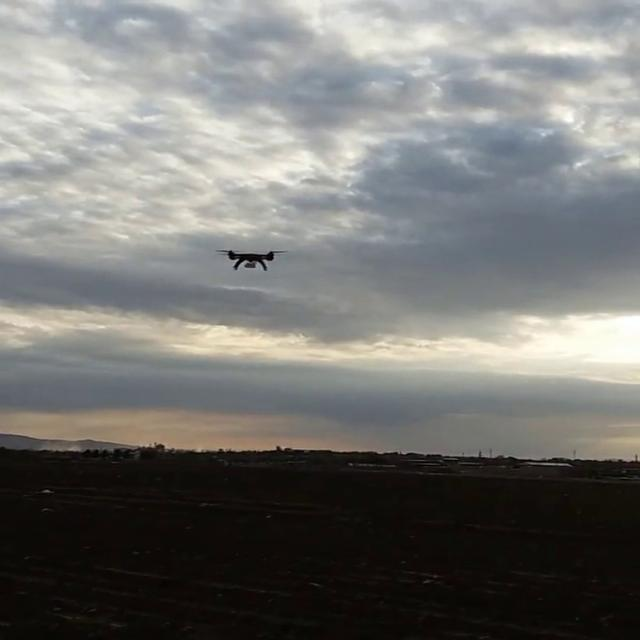drone: (212, 245, 294, 274)
